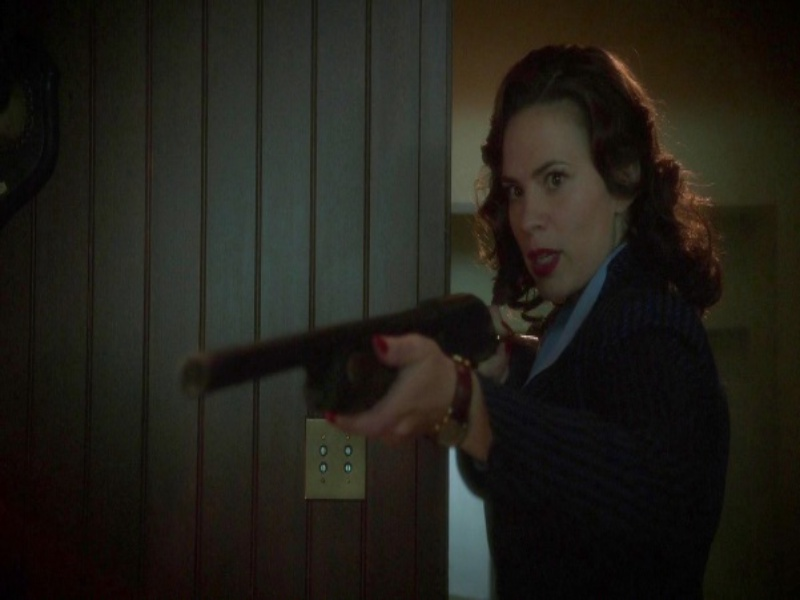person: (355, 40, 706, 599)
weapon: (188, 293, 505, 415)
